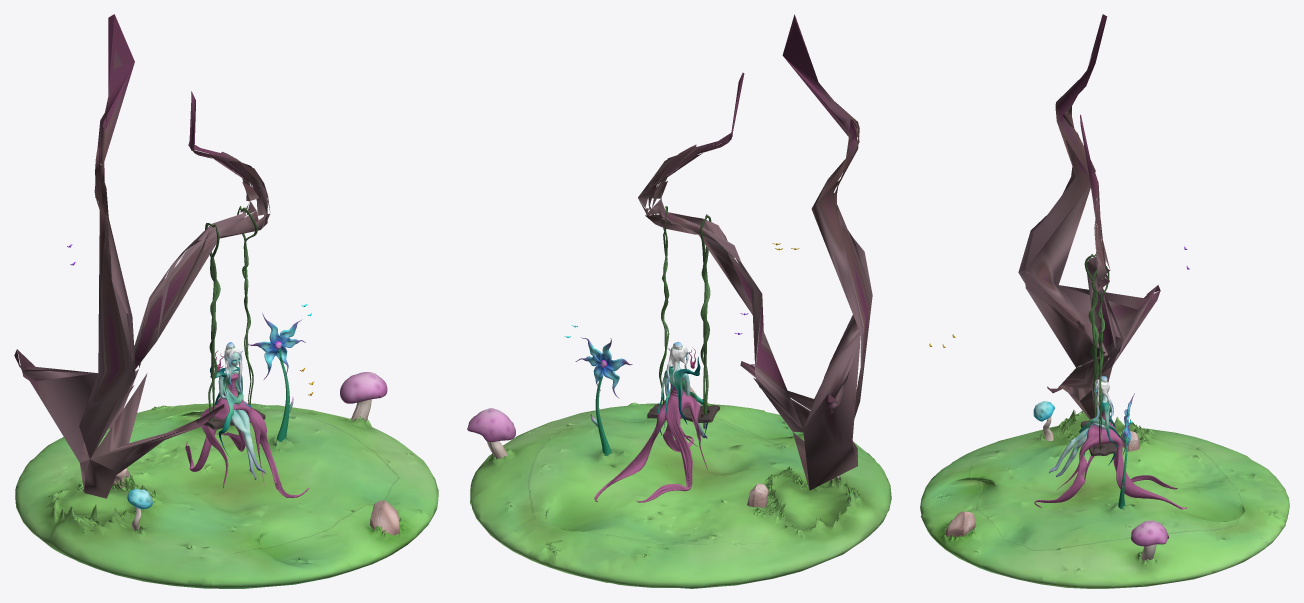
The model's file is model5lowpoly.glb.
3 views of the same model, side by side, from view 1: azimuth 30°, elevation 25°; view 2: azimuth 150°, elevation 25°; view 3: azimuth 270°, elevation 25° (orthographic). The views are drawn at different scales.
Visible parts, largest first — view 1: Object_4, Object_10, Object_22, Object_23, Object_37, Object_14, Object_29, Object_12, Object_31; view 2: Object_4, Object_10, Object_22, Object_23, Object_37, Object_14, Object_29, Object_12, Object_16; view 3: Object_4, Object_10, Object_22, Object_23, Object_37, Object_14, Object_12, Object_31.
Part boxes in pixels (x1=…): Object_4: x1=15, y1=403, x2=438, y2=588; Object_10: x1=14, y1=14, x2=270, y2=498; Object_22: x1=186, y1=342, x2=309, y2=497; Object_23: x1=185, y1=342, x2=309, y2=497; Object_37: x1=340, y1=372, x2=387, y2=403; Object_14: x1=205, y1=223, x2=220, y2=429; Object_29: x1=248, y1=313, x2=305, y2=379; Object_12: x1=237, y1=206, x2=257, y2=405; Object_31: x1=370, y1=500, x2=400, y2=538; Object_4: x1=470, y1=399, x2=891, y2=588; Object_10: x1=638, y1=14, x2=872, y2=490; Object_22: x1=603, y1=342, x2=707, y2=502; Object_23: x1=594, y1=342, x2=707, y2=502; Object_37: x1=467, y1=408, x2=515, y2=441; Object_14: x1=700, y1=214, x2=711, y2=414; Object_29: x1=575, y1=337, x2=632, y2=398; Object_12: x1=659, y1=206, x2=669, y2=404; Object_16: x1=647, y1=404, x2=719, y2=422; Object_4: x1=920, y1=410, x2=1289, y2=588; Object_10: x1=1018, y1=14, x2=1160, y2=419; Object_22: x1=1034, y1=376, x2=1177, y2=507; Object_23: x1=1034, y1=374, x2=1186, y2=509; Object_37: x1=1131, y1=520, x2=1168, y2=546; Object_14: x1=1084, y1=254, x2=1105, y2=417; Object_12: x1=1091, y1=264, x2=1109, y2=448; Object_31: x1=945, y1=511, x2=975, y2=537.
Size of the model in its own units: 2.44 by 3.44 by 2.44.
Materials: 18 (18 with a texture image).
